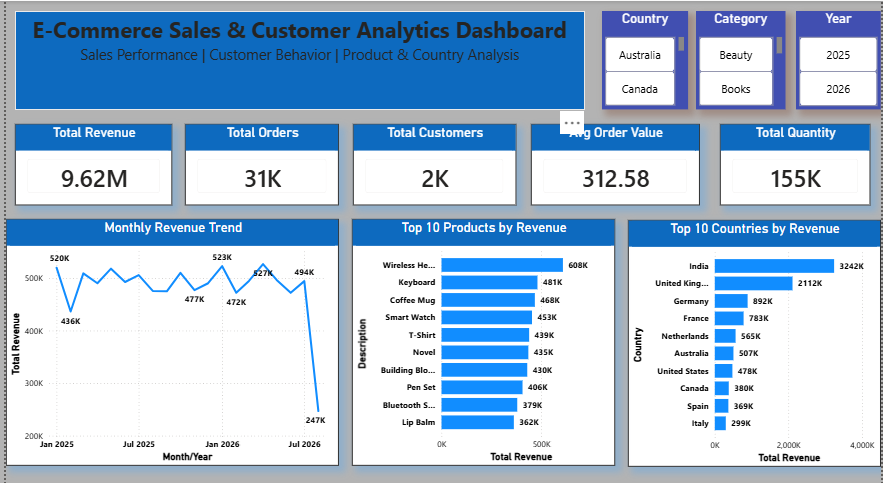

The dashboard page shown, as its layout file describes it:
{"tool":"powerbi","page":{"name":"Page 1","canvas":[1280,720],"ordinal":0},"visuals":[{"type":"cardVisual","title":"Total Revenue","fields":{"Data":["ecommerce_sales_cleaned.Total Revenue"]},"box":[13.4,179.7,230.1,119.3],"z":0},{"type":"cardVisual","title":"Total Customers","fields":{"Data":["ecommerce_sales_cleaned.Total Customers"]},"box":[507.3,179.7,238.5,119.3],"z":1},{"type":"cardVisual","title":"Total Orders","fields":{"Data":["ecommerce_sales_cleaned.Total Orders"]},"box":[262,179.7,225.1,119.3],"z":2},{"type":"cardVisual","title":"Avg Order Value","fields":{"Data":["ecommerce_sales_cleaned.Average Order Value"]},"box":[767.7,179.7,246.9,119.3],"z":3},{"type":"cardVisual","title":"Total Quantity","fields":{"Data":["ecommerce_sales_cleaned.Total Quantity"]},"box":[1044.8,179.7,220.1,119.3],"z":4},{"type":"lineChart","title":"Monthly Revenue Trend","fields":{"Category":["ecommerce_sales_cleaned.InvoiceDate.Variation.Date Hierarchy.Year","ecommerce_sales_cleaned.InvoiceDate.Variation.Date Hierarchy.Month"],"Y":["ecommerce_sales_cleaned.Total Revenue"]},"box":[0,319,487.1,361.2],"z":5},{"type":"clusteredBarChart","title":"Top 10 Countries by Revenue","fields":{"Category":["ecommerce_sales_cleaned.Country"],"Y":["ecommerce_sales_cleaned.Total Revenue"]},"box":[910.2,320.5,369.6,361.2],"z":6},{"type":"clusteredBarChart","title":"Top 10 Products by Revenue","fields":{"Category":["ecommerce_sales_cleaned.Description"],"Y":["ecommerce_sales_cleaned.Total Revenue"]},"box":[506.3,319,384.7,361.2],"z":7},{"type":"textbox","box":[13.4,15.1,833.2,144.5],"z":8},{"type":"advancedSlicerVisual","fields":{"Values":["ecommerce_sales_cleaned.Country"]},"box":[871.8,15.1,126,144.5],"z":9},{"type":"advancedSlicerVisual","fields":{"Values":["ecommerce_sales_cleaned.Category"]},"box":[1009.6,15.1,131,144.5],"z":10},{"type":"advancedSlicerVisual","fields":{"Values":["ecommerce_sales_cleaned.InvoiceDate.Variation.Date Hierarchy.Year"]},"box":[1155.7,15.1,124.3,144.5],"z":11}]}

Visuals, with their boxes in screenshot pixels (x1, y1, x2, y2), scaled from the page's 1280x720 canvas onto the 883x483 screenshot:
"Total Revenue" cardVisual: box(9, 121, 168, 201)
"Total Customers" cardVisual: box(350, 121, 514, 201)
"Total Orders" cardVisual: box(181, 121, 336, 201)
"Avg Order Value" cardVisual: box(530, 121, 700, 201)
"Total Quantity" cardVisual: box(721, 121, 873, 201)
"Monthly Revenue Trend" lineChart: box(0, 214, 336, 456)
"Top 10 Countries by Revenue" clusteredBarChart: box(628, 215, 882, 457)
"Top 10 Products by Revenue" clusteredBarChart: box(349, 214, 615, 456)
textbox: box(9, 10, 584, 107)
advancedSlicerVisual - ecommerce_sales_cleaned.Country: box(601, 10, 688, 107)
advancedSlicerVisual - ecommerce_sales_cleaned.Category: box(696, 10, 787, 107)
advancedSlicerVisual - ecommerce_sales_cleaned.InvoiceDate.Variation.Date Hierarchy.Year: box(797, 10, 882, 107)
